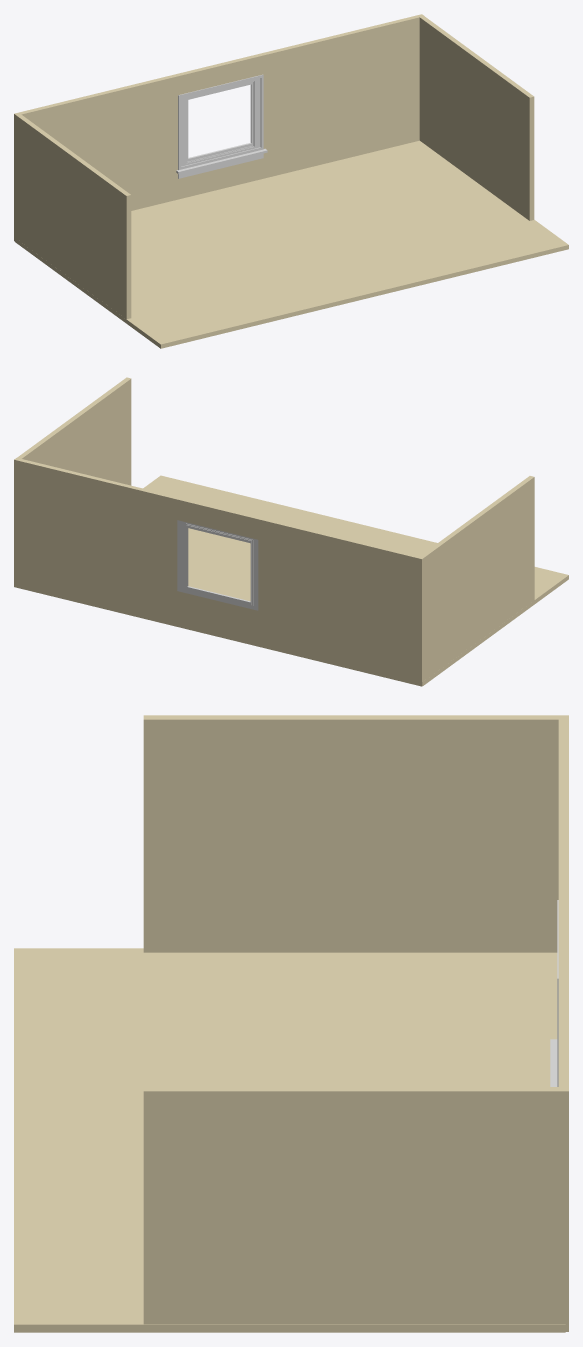
Rendered from CasaVentana.fbx.
3 views of the same model, one above another, from view 1: azimuth 30°, elevation 25°; view 2: azimuth 150°, elevation 25°; view 3: azimuth 270°, elevation 25° (orthographic). The views are drawn at different scales.
Parts seen in each view (by area): view 1: Cube, Cube.001, Cube.002, Cube.003, Cube.004; view 2: Cube.001, Cube.002, Cube, Cube.003, Cube.004; view 3: Cube, Cube.003, Cube.002, Cube.001.
Part boxes in pixels (box(x1,y1,x2,y2)): Cube: box(15, 140, 568, 348); Cube.001: box(14, 14, 424, 241); Cube.002: box(14, 112, 131, 319); Cube.003: box(417, 15, 534, 220); Cube.004: box(176, 74, 267, 178); Cube.001: box(14, 458, 423, 686); Cube.002: box(418, 476, 534, 682); Cube: box(143, 475, 568, 685); Cube.003: box(17, 377, 131, 485); Cube.004: box(177, 520, 258, 610); Cube: box(14, 948, 565, 1332); Cube.003: box(143, 1087, 565, 1324); Cube.002: box(143, 715, 568, 952); Cube.001: box(558, 715, 568, 1331).
Size of the model in its own units: 5513 by 1647 by 3437.
